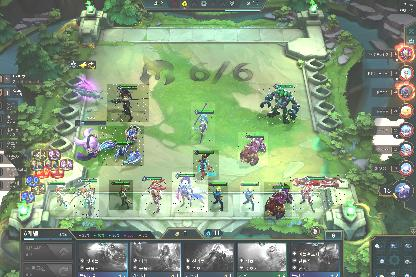1_ezreal: (208, 182, 228, 212), (240, 182, 260, 212)
1_karma: (109, 180, 133, 210), (46, 182, 70, 210)
1_sejuani: (264, 182, 292, 220), (238, 132, 268, 166)
2_malphite: (259, 83, 301, 125)
2_nasus: (107, 84, 149, 122)
2_nidalee: (191, 102, 215, 146)
2_senna: (290, 174, 346, 212)
2_sett: (142, 178, 166, 214)
2_skarner: (98, 126, 144, 166)
2_taliyah: (193, 150, 219, 180)
2_vladimir: (172, 172, 208, 212)
2_wukong: (73, 178, 99, 218)
